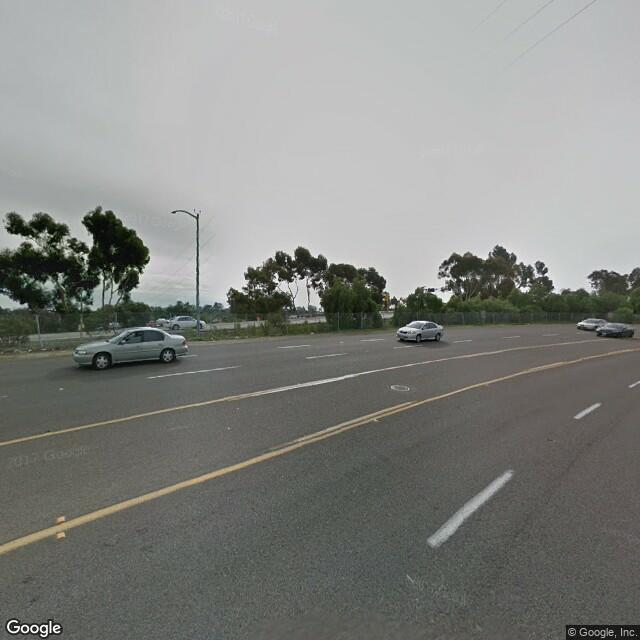litter: (57, 386, 65, 394)
